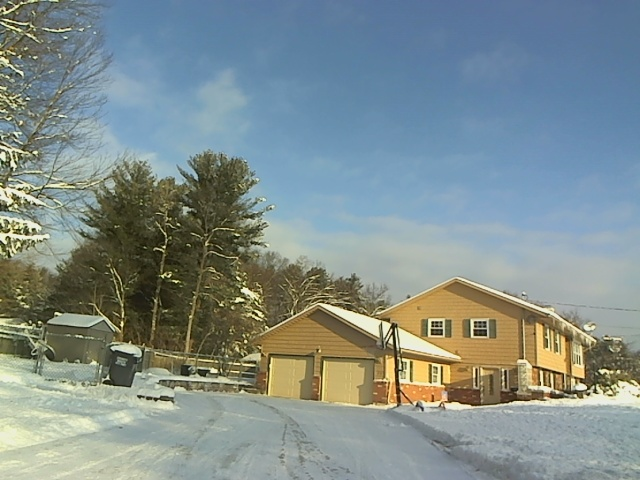Unploughed: (165, 398, 428, 480)
